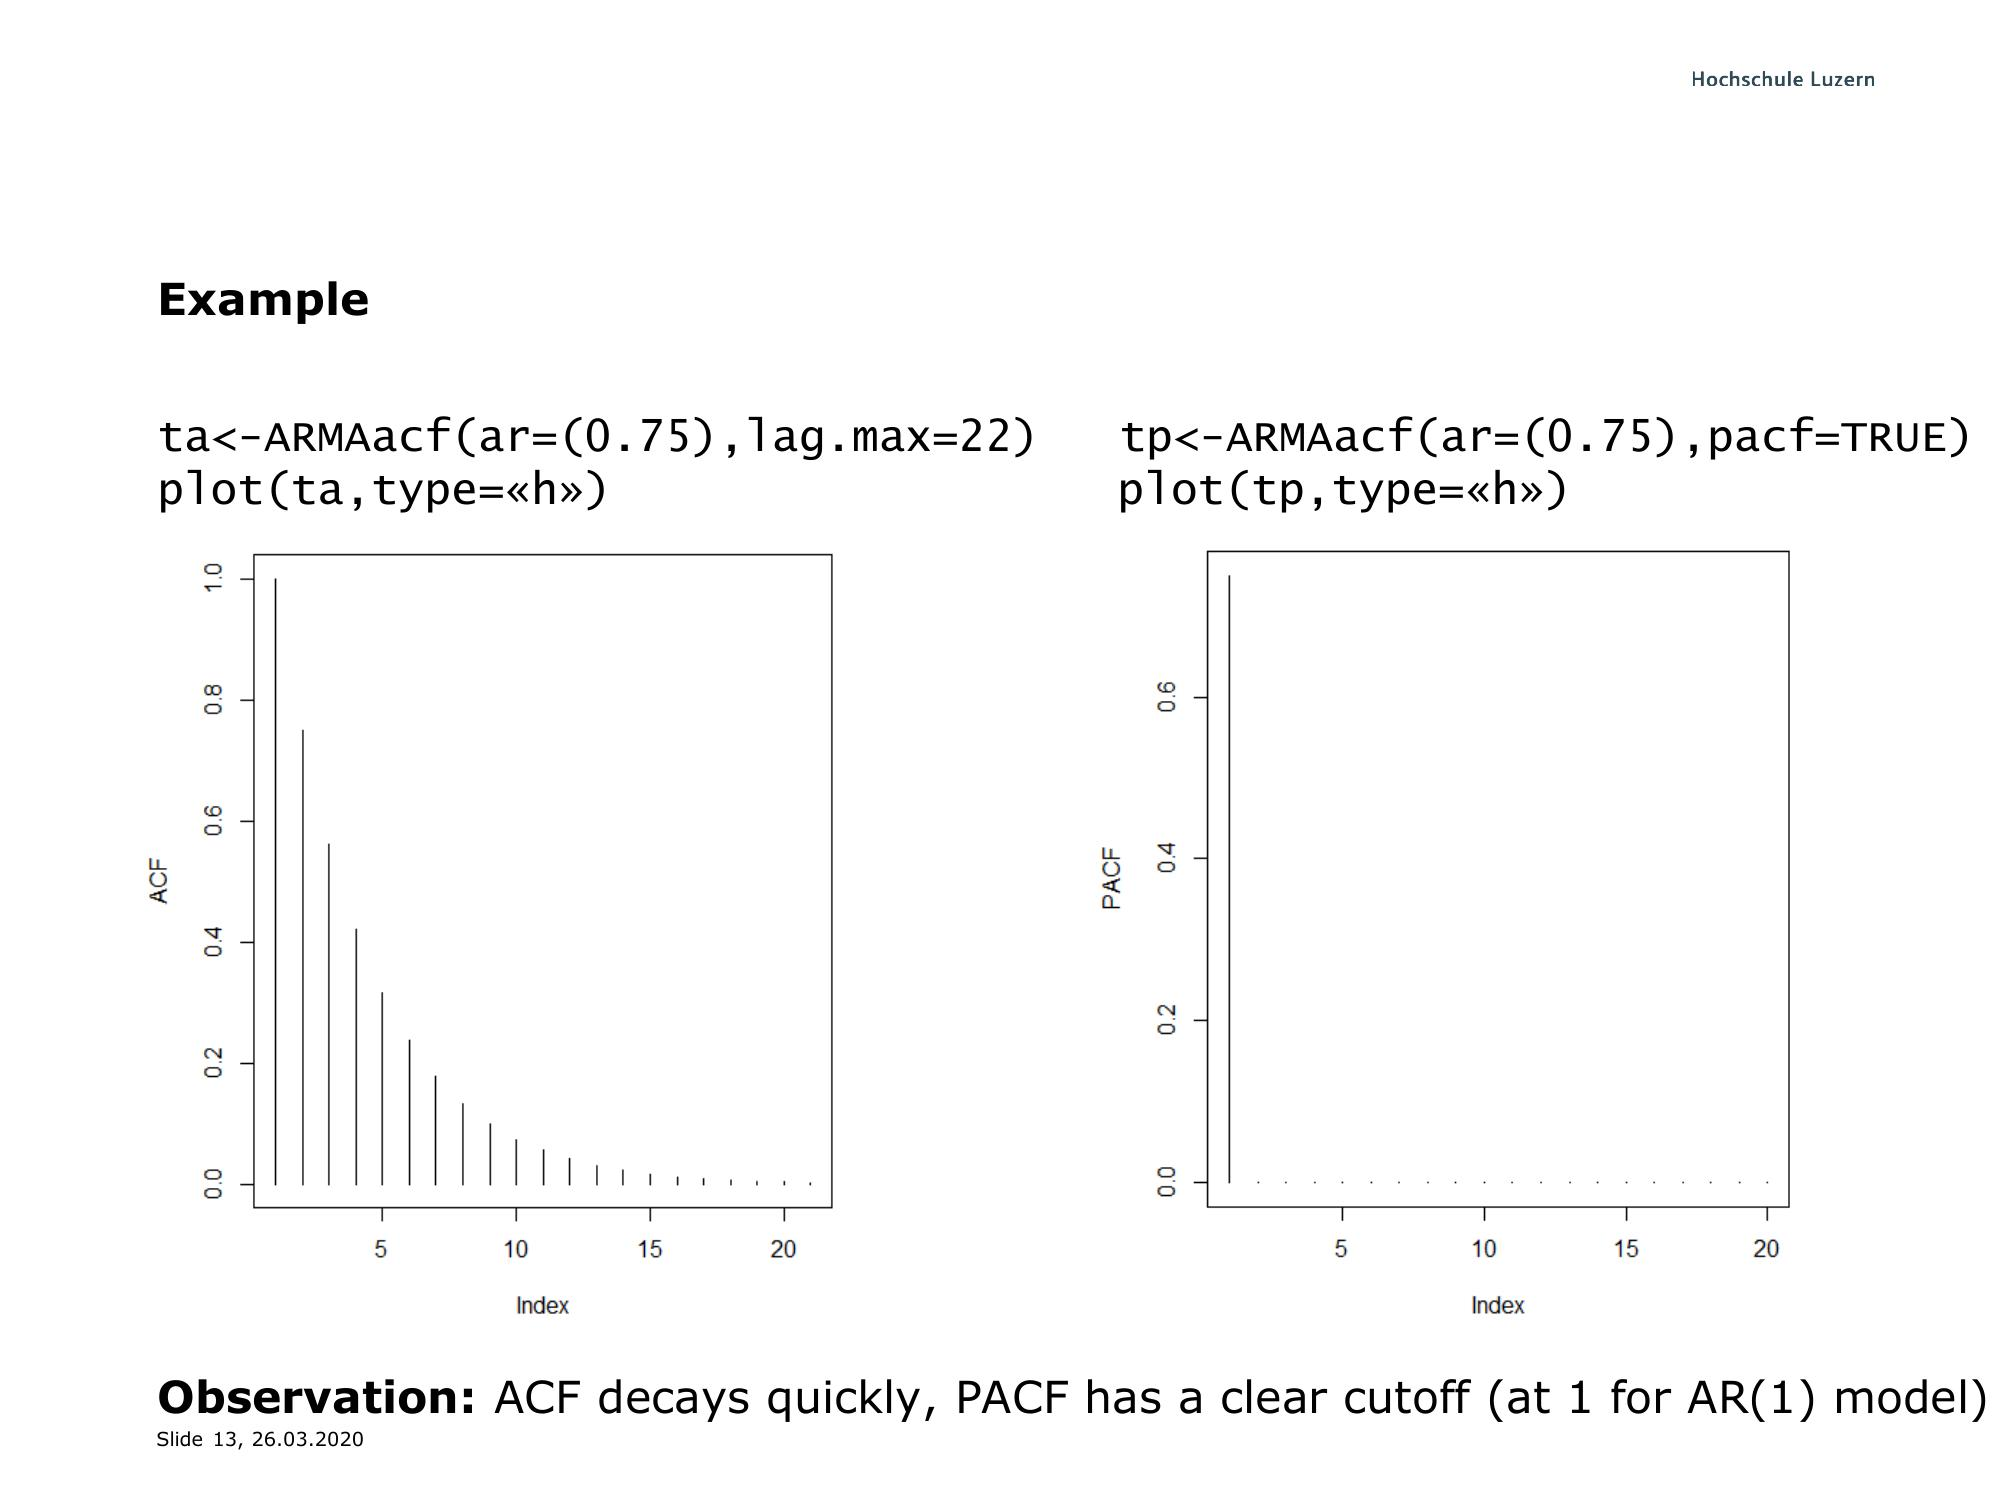Title: (121, 251, 395, 334)
